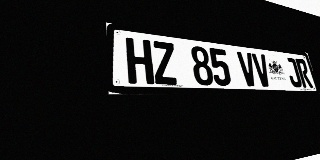5: (209, 48, 232, 86)
8: (190, 45, 215, 86)
H: (125, 37, 154, 84)
J: (284, 57, 303, 87)
R: (295, 58, 313, 88)
V: (237, 51, 259, 86), (251, 53, 272, 87)
Z: (151, 40, 179, 85)
